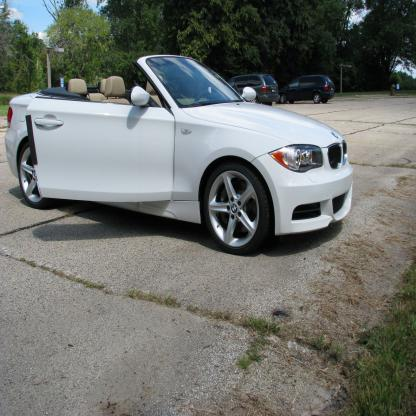Vehicle: (6, 56, 354, 256)
